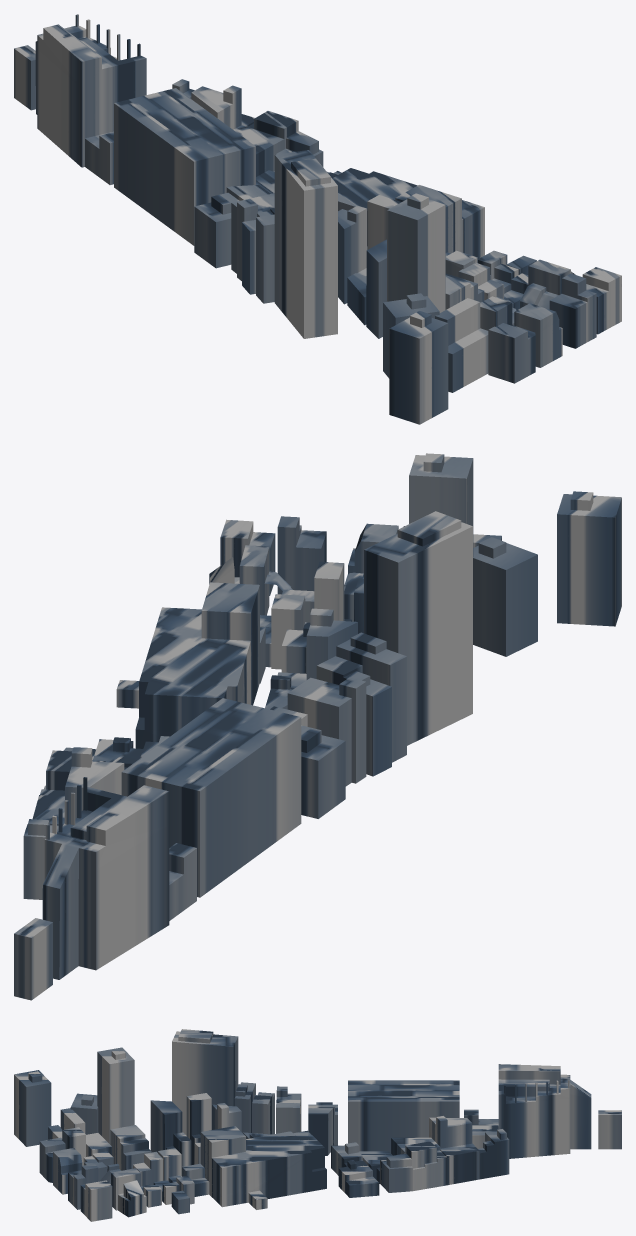
Rendered from dt_release_into.glb.
3 views of the same model, one above another, from view 1: azimuth 30°, elevation 25°; view 2: azimuth 150°, elevation 25°; view 3: azimuth 270°, elevation 25° (orthographic). The views are drawn at different scales.
Visible parts, largest first — view 1: world; view 2: world; view 3: world.
Boxes of the visible parts, x1=… form: world: x1=14, y1=14, x2=621, y2=424; world: x1=14, y1=453, x2=621, y2=1000; world: x1=14, y1=1029, x2=621, y2=1221.
Size of the model in its own units: 20770 by 11333 by 58078.
Materials: 1 (1 with a texture image).
